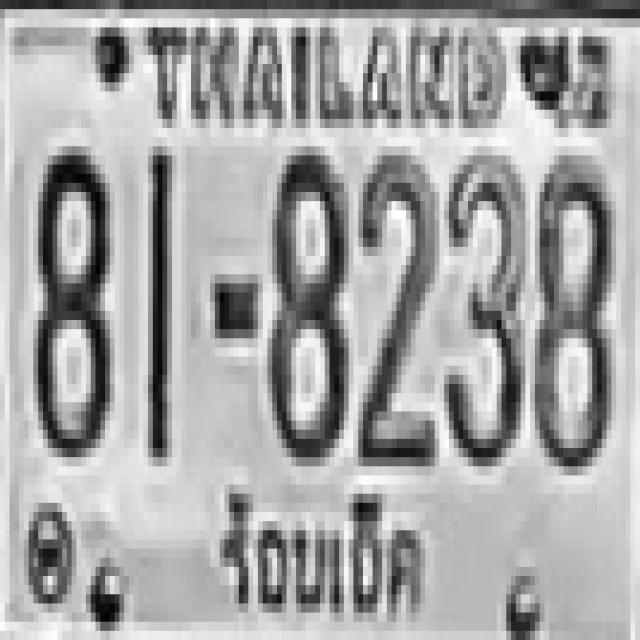1: (143, 151, 167, 452)
2: (356, 151, 432, 462)
3: (440, 156, 520, 457)
8: (267, 146, 344, 457), (530, 156, 607, 467), (29, 137, 105, 448)
RoiEt: (209, 460, 437, 637)
